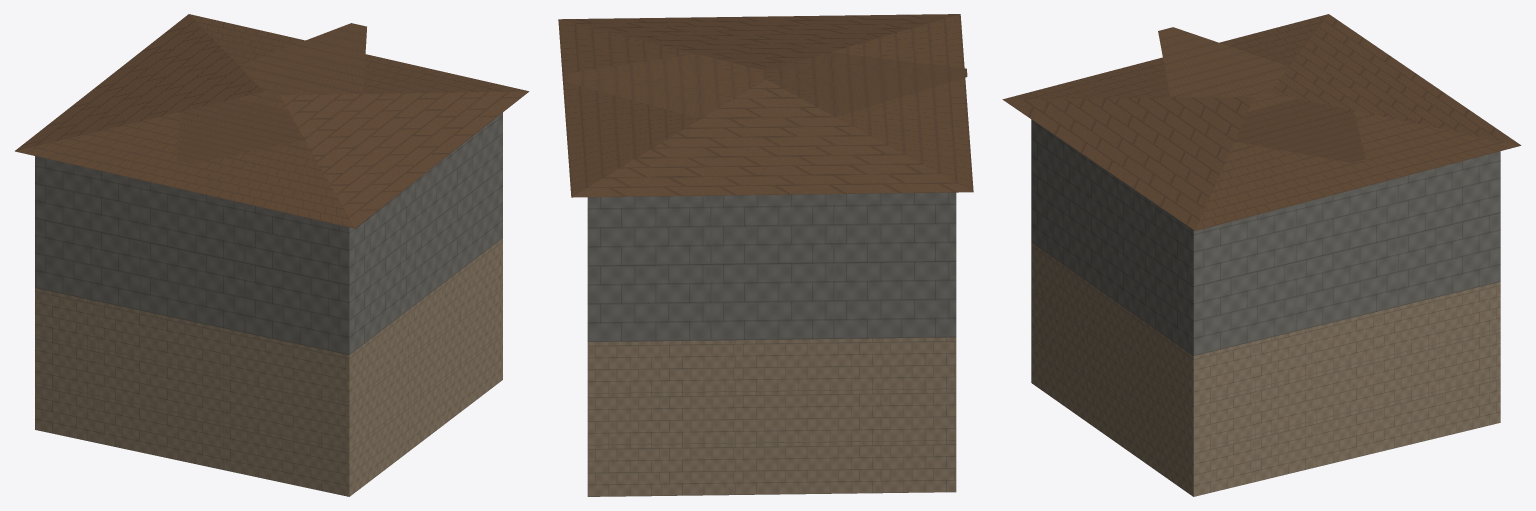
Rendered from bld_c43_34_260.gltf.
The picture shows the model from 3 angles, left to right: view 1: azimuth 30°, elevation 25°; view 2: azimuth 150°, elevation 25°; view 3: azimuth 270°, elevation 25°; orthographic projection. The views are drawn at different scales.
Parts seen in each view (by area): view 1: bld_c43_34_260; view 2: bld_c43_34_260; view 3: bld_c43_34_260.
Part boxes in pixels (<box>): bld_c43_34_260: <box>15,14,529,496</box>; bld_c43_34_260: <box>558,14,973,496</box>; bld_c43_34_260: <box>1002,14,1521,496</box>.
Size of the model in its own units: 16.84 by 11.1 by 17.03.
3 materials, 3 textured.
